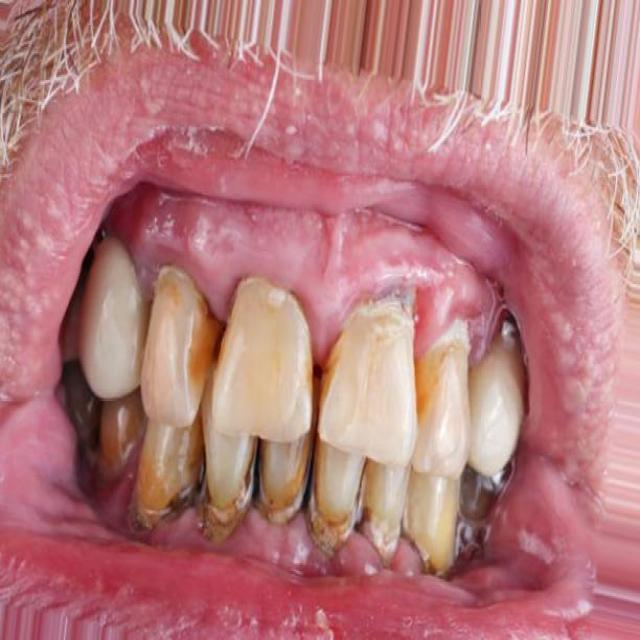calculus: (330, 279, 420, 454), (130, 408, 192, 540), (422, 324, 486, 450), (142, 248, 198, 384), (204, 400, 253, 553), (306, 428, 357, 565), (254, 415, 304, 541), (412, 467, 460, 586), (362, 450, 402, 576)
